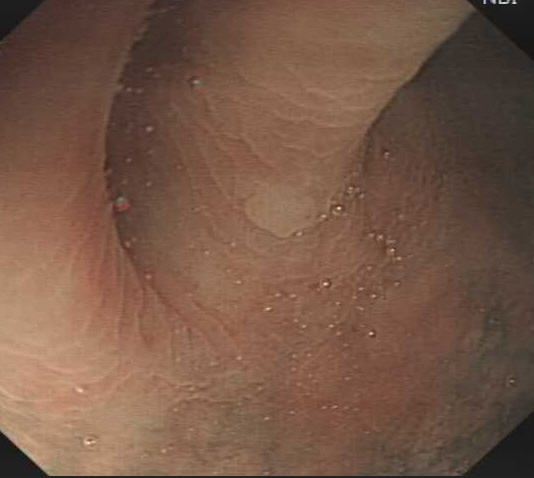others: (240, 182, 320, 239)
